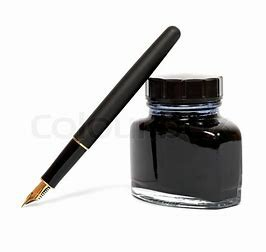pen: (26, 26, 179, 204)
